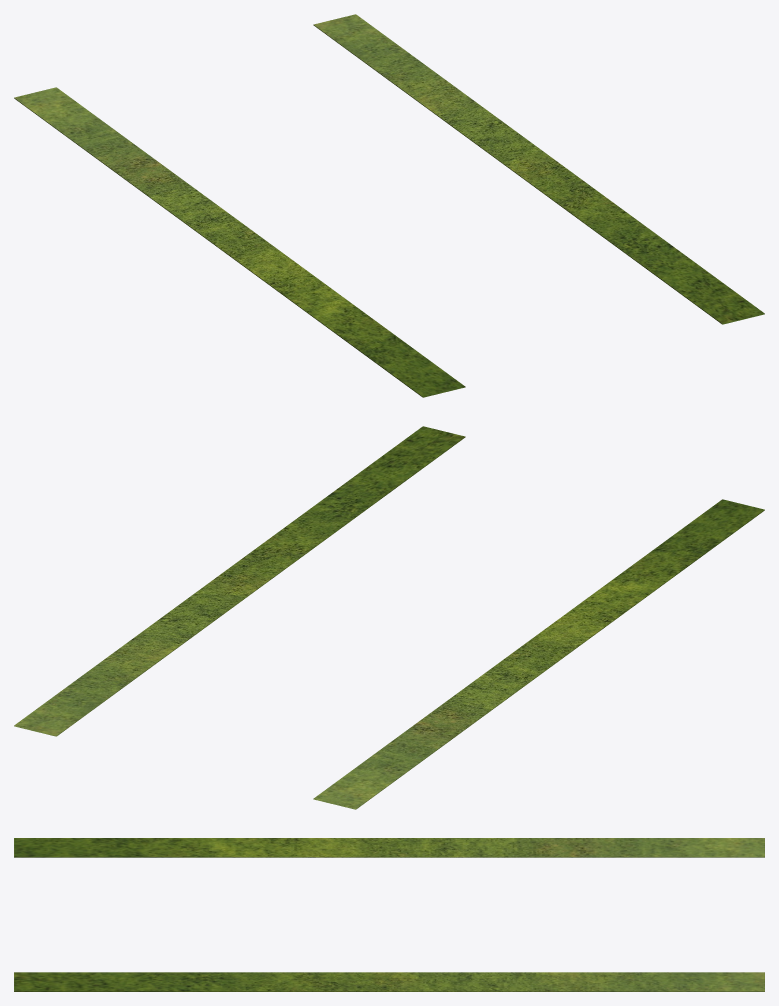
File: çimenl.fbx
3 views of the same model, one above another, from view 1: azimuth 30°, elevation 25°; view 2: azimuth 150°, elevation 25°; view 3: azimuth 270°, elevation 25° (orthographic). The views are drawn at different scales.
Parts seen in each view (by area): view 1: Shape009_009; view 2: Shape009_009; view 3: Shape009_009.
Boxes of the visible parts, x1,y1,x2,y2 form: Shape009_009: (14,14,764,397); Shape009_009: (14,426,764,809); Shape009_009: (14,838,764,991).
Bounding box in the file's own units: 2413 × 5 × 5000.
Materials: 1 (1 with a texture image).
